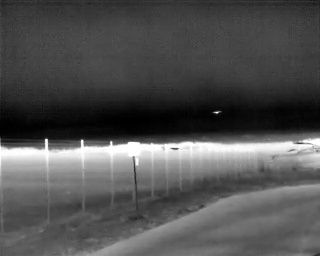AIRPLANE: (211, 108, 223, 116)
